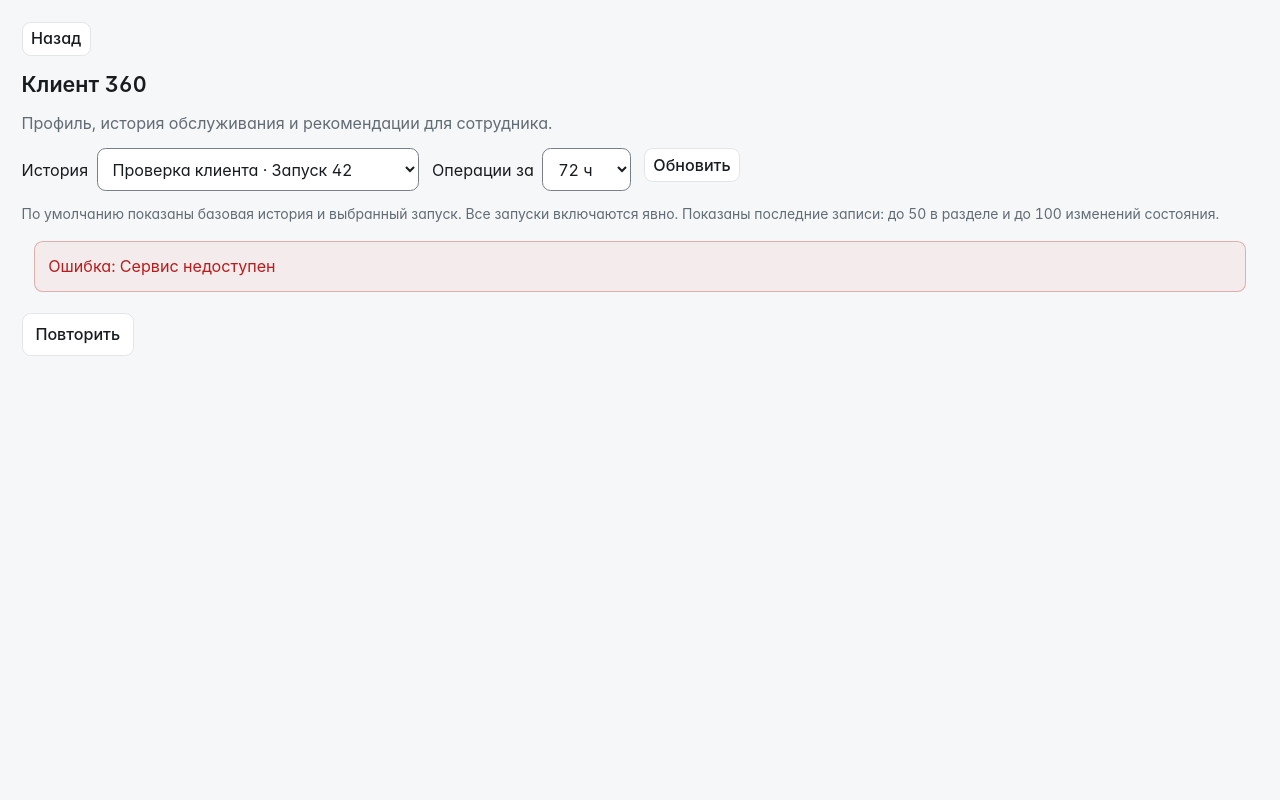
Test: Client360 › retries a failed API load explicitly
The width and height of the screenshot is (1280, 800).
Expected: the message "Ошибка: Сервис недоступен Повторить" is shown, [22,241,1258,356]
Click the button "Повторить": (78, 335) [22,313,134,356]
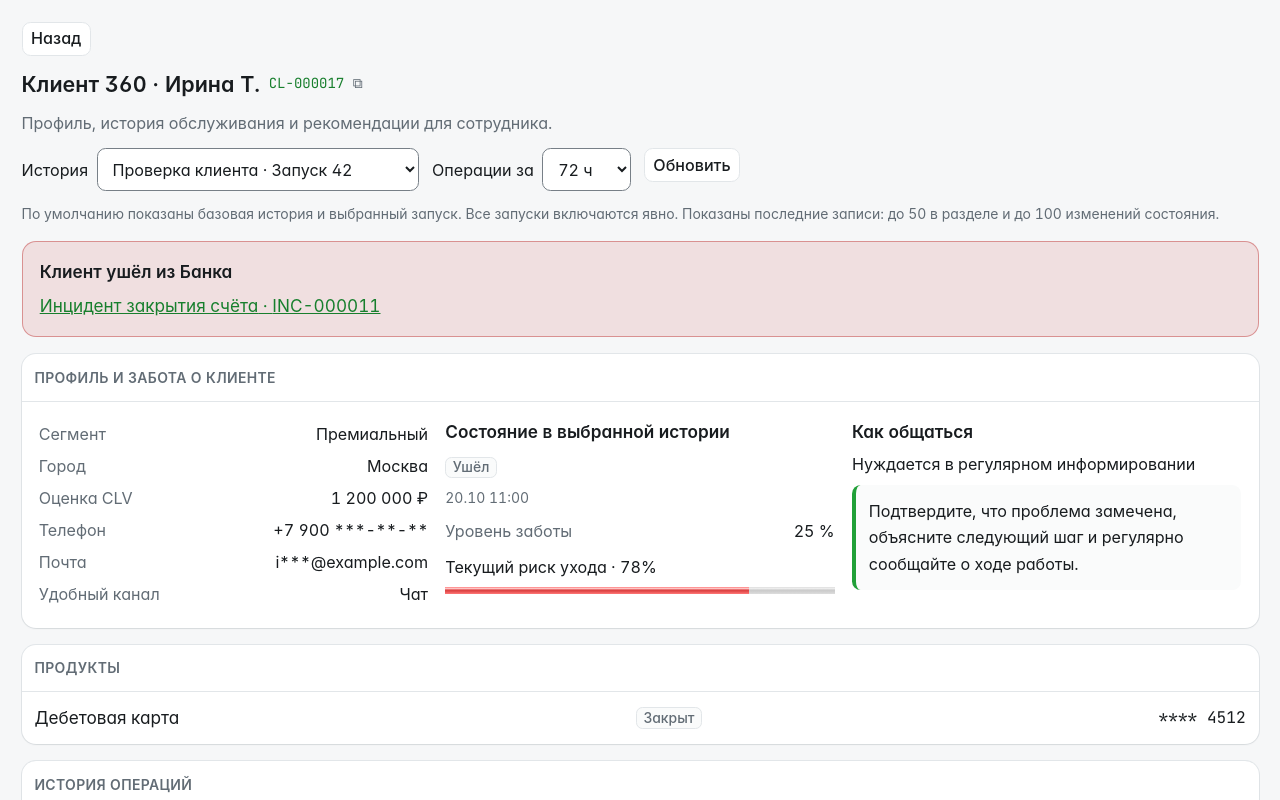
Expected: the heading "Клиент 360 · Ирина Т." is shown, [22,69,260,99]
